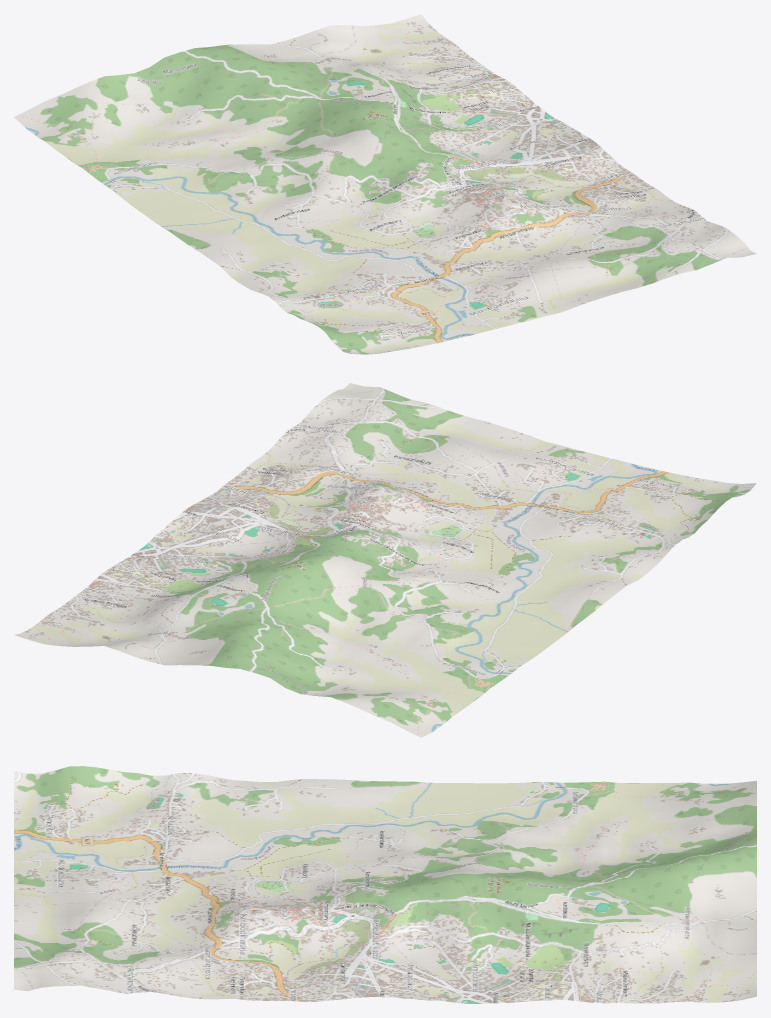
File: half_ground.glb
3 views of the same model, one above another, from view 1: azimuth 30°, elevation 25°; view 2: azimuth 150°, elevation 25°; view 3: azimuth 270°, elevation 25° (orthographic). The views are drawn at different scales.
Visible parts, largest first — view 1: ground; view 2: ground; view 3: ground.
Part boxes in pixels (<box>): ground: <box>14,14,756,354</box>; ground: <box>14,383,756,737</box>; ground: <box>14,766,756,1003</box>.
Size of the model in its own units: 3612 by 268 by 5160.
1 material, 1 textured.
